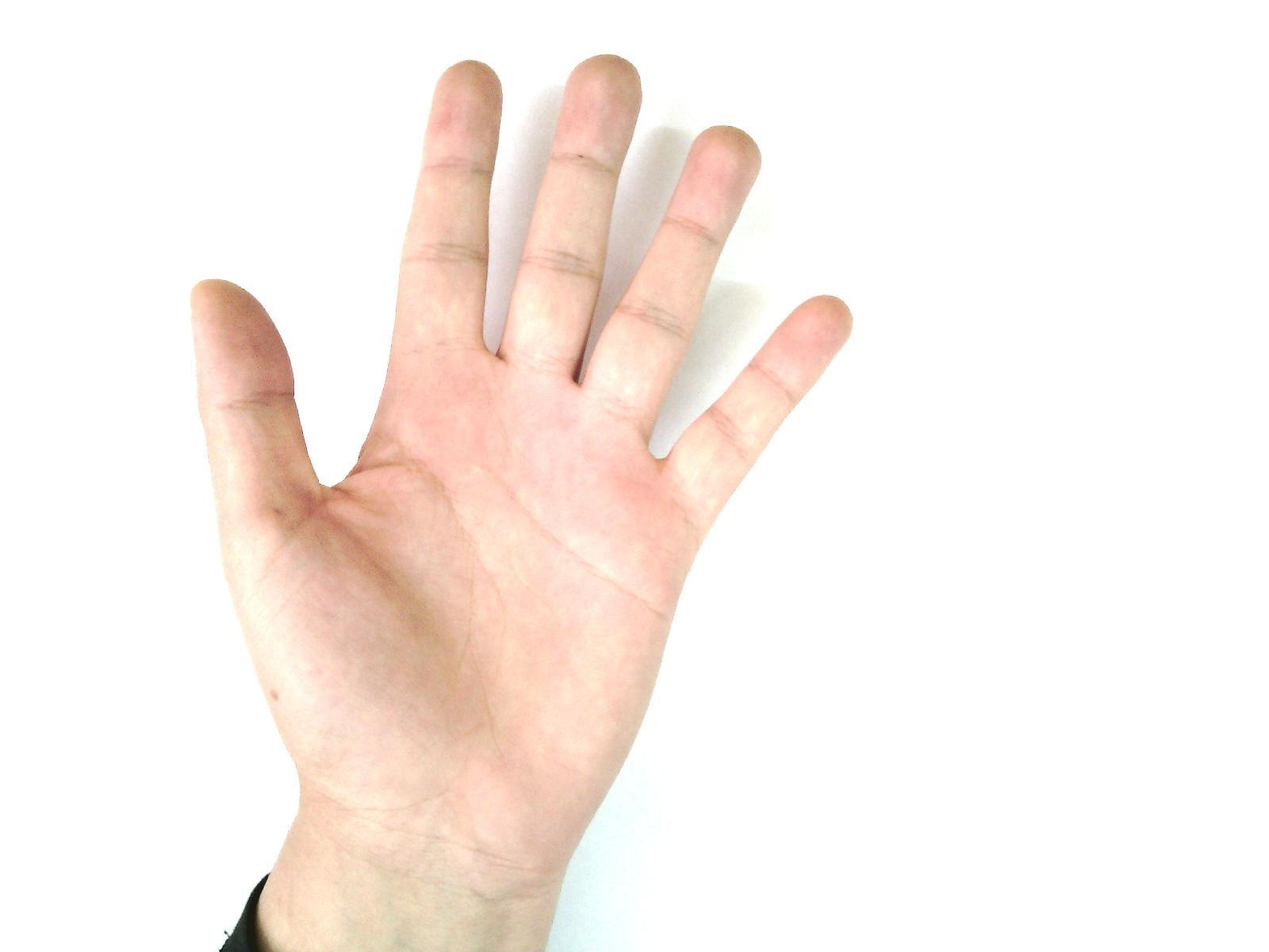open_palm: (188, 49, 860, 842)
